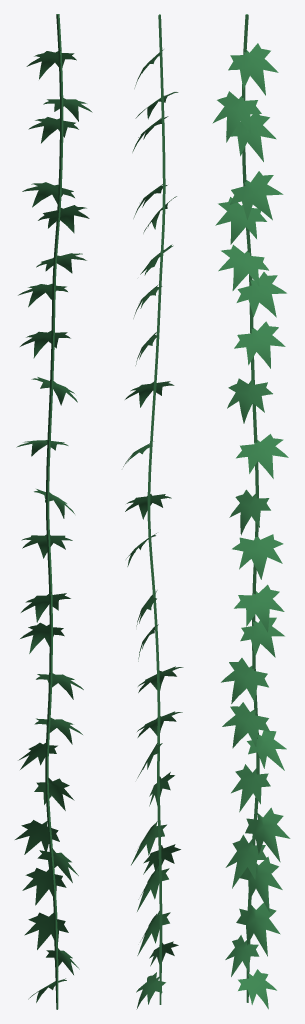
Rendered from vine_C_alangium.fbx.
3 renders of one model, left to right at view 1: azimuth 90°, elevation 25°; view 2: azimuth 150°, elevation 25°; view 3: azimuth 270°, elevation 25°, orthographic.
Parts seen in each view (by area): view 1: vine_C_alangium_root, vine_C_alangium_leaf_A, vine_C_alangium_leaf_A2, vine_C_alangium_leaf_A1, vine_C_alangium_leaf_B12, vine_C_alangium_leaf_A3, vine_C_alangium_leaf_B13, vine_C_alangium_leaf_B3, vine_C_alangium_leaf_B4, vine_C_alangium_leaf_B16, vine_C_alangium_leaf_B14, vine_C_alangium_leaf_B9 (+12 smaller); view 2: vine_C_alangium_root, vine_C_alangium_leaf_B, vine_C_alangium_leaf_A4, vine_C_alangium_leaf_A2, vine_C_alangium_leaf_A1, vine_C_alangium_leaf_B8, vine_C_alangium_leaf_B6, vine_C_alangium_leaf_A, vine_C_alangium_leaf_B2, vine_C_alangium_leaf_B1, vine_C_alangium_leaf_A3, vine_C_alangium_leaf_A5; view 3: vine_C_alangium_root, vine_C_alangium_leaf_B13, vine_C_alangium_leaf_B16, vine_C_alangium_leaf_B15, vine_C_alangium_leaf_B5, vine_C_alangium_leaf_B9, vine_C_alangium_leaf_A, vine_C_alangium_leaf_B11, vine_C_alangium_leaf_B3, vine_C_alangium_leaf_B10, vine_C_alangium_leaf_A2, vine_C_alangium_leaf_B1 (+13 smaller).
Boxes of the visible parts, x1,y1,x2,y2 form: vine_C_alangium_root: (45,14,63,1009); vine_C_alangium_leaf_A: (15,820,59,854); vine_C_alangium_leaf_A2: (24,912,68,949); vine_C_alangium_leaf_A1: (22,868,66,905); vine_C_alangium_leaf_B12: (38,205,89,233); vine_C_alangium_leaf_A3: (34,777,74,810); vine_C_alangium_leaf_B13: (22,182,74,207); vine_C_alangium_leaf_B3: (21,592,70,622); vine_C_alangium_leaf_B4: (20,622,64,653); vine_C_alangium_leaf_B16: (26,50,76,79); vine_C_alangium_leaf_B14: (28,117,78,143); vine_C_alangium_leaf_B9: (20,330,70,358); vine_C_alangium_root: (147,14,165,1004); vine_C_alangium_leaf_B: (136,972,165,1009); vine_C_alangium_leaf_A4: (143,844,180,874); vine_C_alangium_leaf_A2: (137,909,170,955); vine_C_alangium_leaf_A1: (137,866,169,911); vine_C_alangium_leaf_B8: (125,381,174,407); vine_C_alangium_leaf_B6: (125,494,171,519); vine_C_alangium_leaf_A: (131,820,166,865); vine_C_alangium_leaf_B2: (138,666,183,692); vine_C_alangium_leaf_B1: (137,711,182,737); vine_C_alangium_leaf_A3: (149,772,174,806); vine_C_alangium_leaf_A5: (149,941,178,966); vine_C_alangium_root: (242,14,259,1002); vine_C_alangium_leaf_B13: (230,171,283,220); vine_C_alangium_leaf_B16: (228,43,278,95); vine_C_alangium_leaf_B15: (212,91,261,142); vine_C_alangium_leaf_B5: (232,534,283,579); vine_C_alangium_leaf_B9: (234,321,285,368); vine_C_alangium_leaf_A: (245,807,290,862); vine_C_alangium_leaf_B11: (218,244,268,290); vine_C_alangium_leaf_B3: (234,584,284,632); vine_C_alangium_leaf_B10: (236,272,286,317); vine_C_alangium_leaf_A2: (236,903,280,956); vine_C_alangium_leaf_B1: (222,702,270,748).
Size of the model in its own units: 33.6 by 725 by 51.9.
